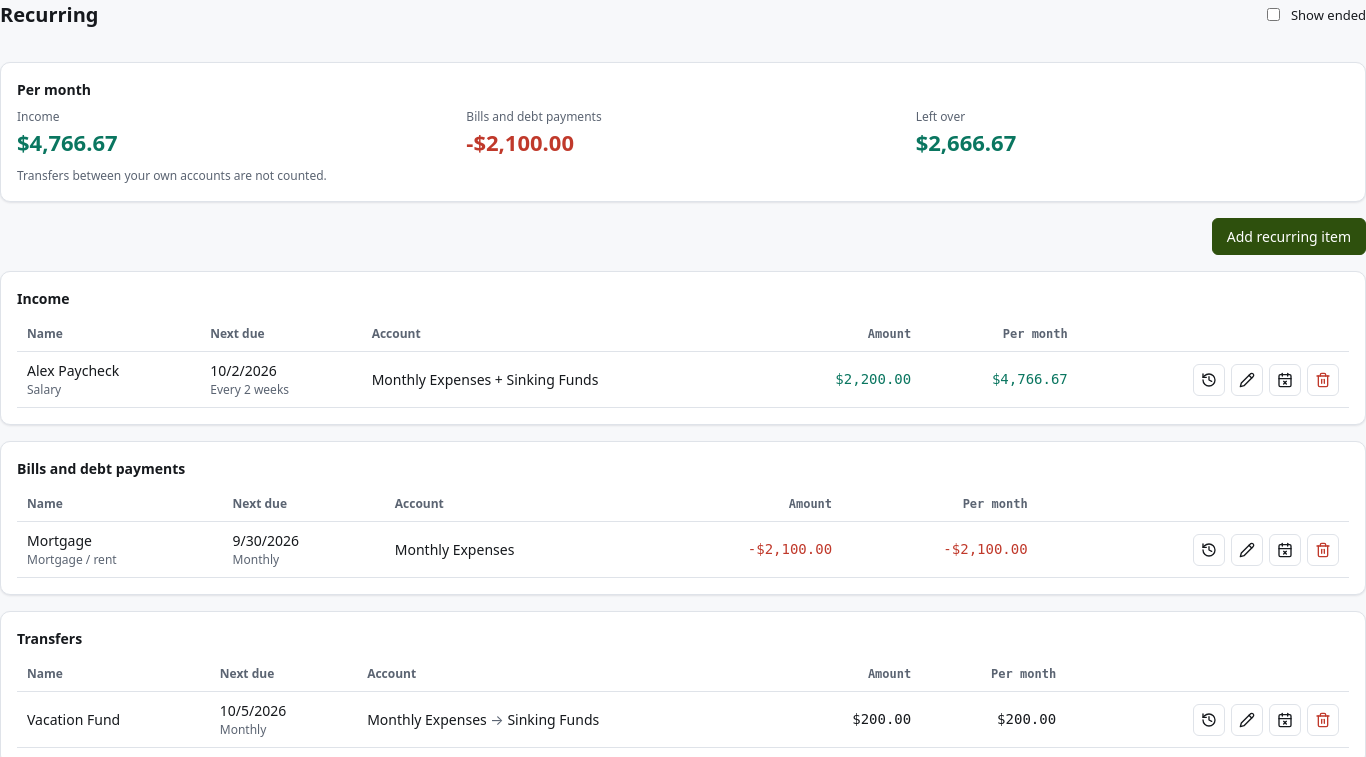
Test: the form › offers only categories of the matching kind, and none for a transfer
Click the button "Add recurring item".
click(1289, 236)  # box x1=1212 y1=218 x2=1365 y2=255
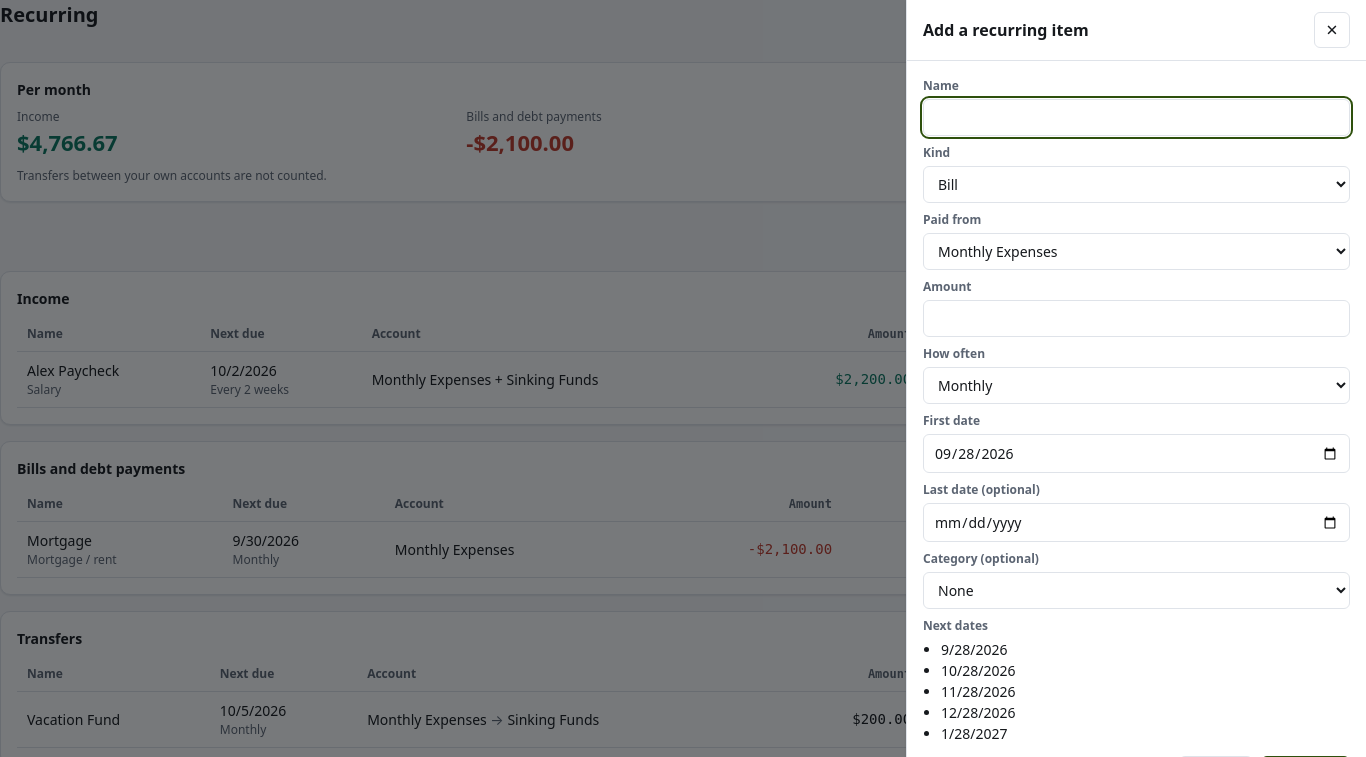
Select "Income" in the dropdown labelled "Kind" at [1136, 184], box x1=923 y1=166 x2=1350 y2=203
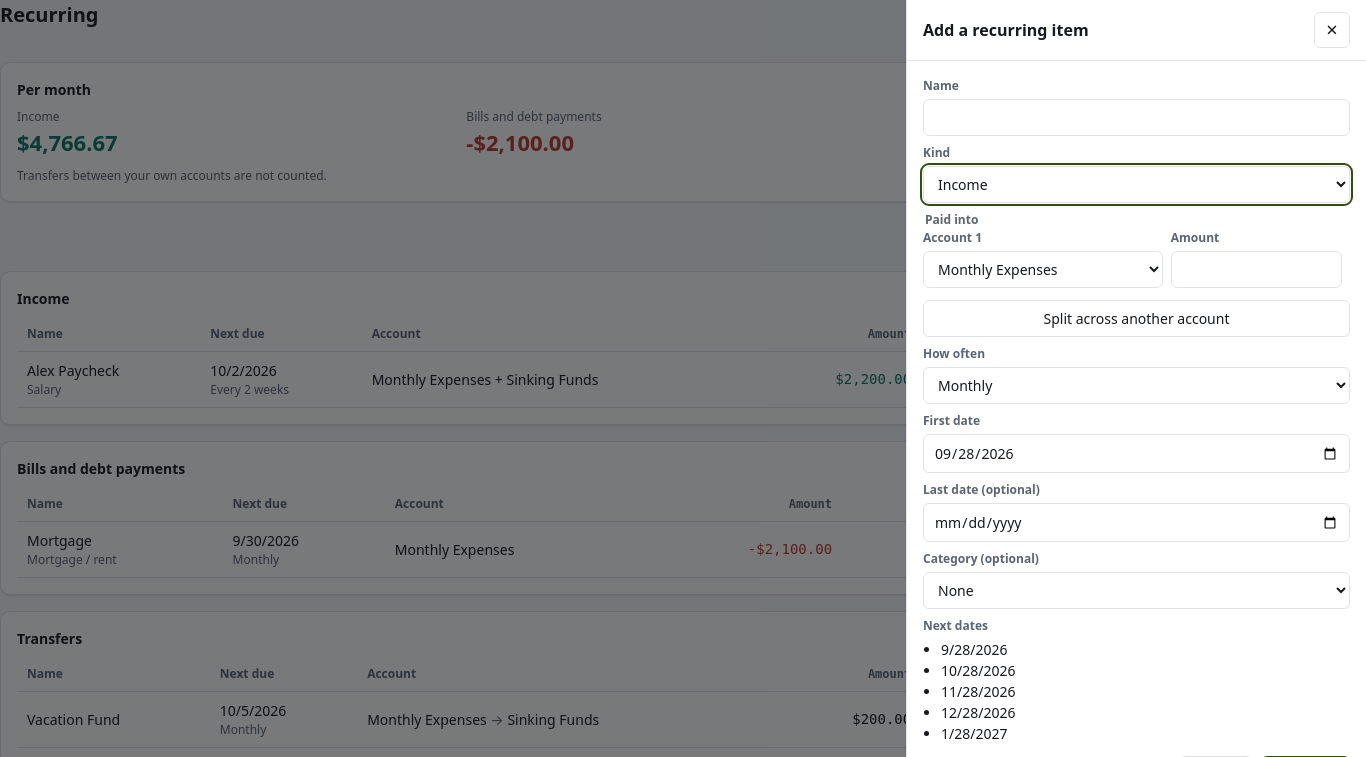
Select "Transfer" in the dropdown labelled "Kind" at [1136, 184], box x1=923 y1=166 x2=1350 y2=203
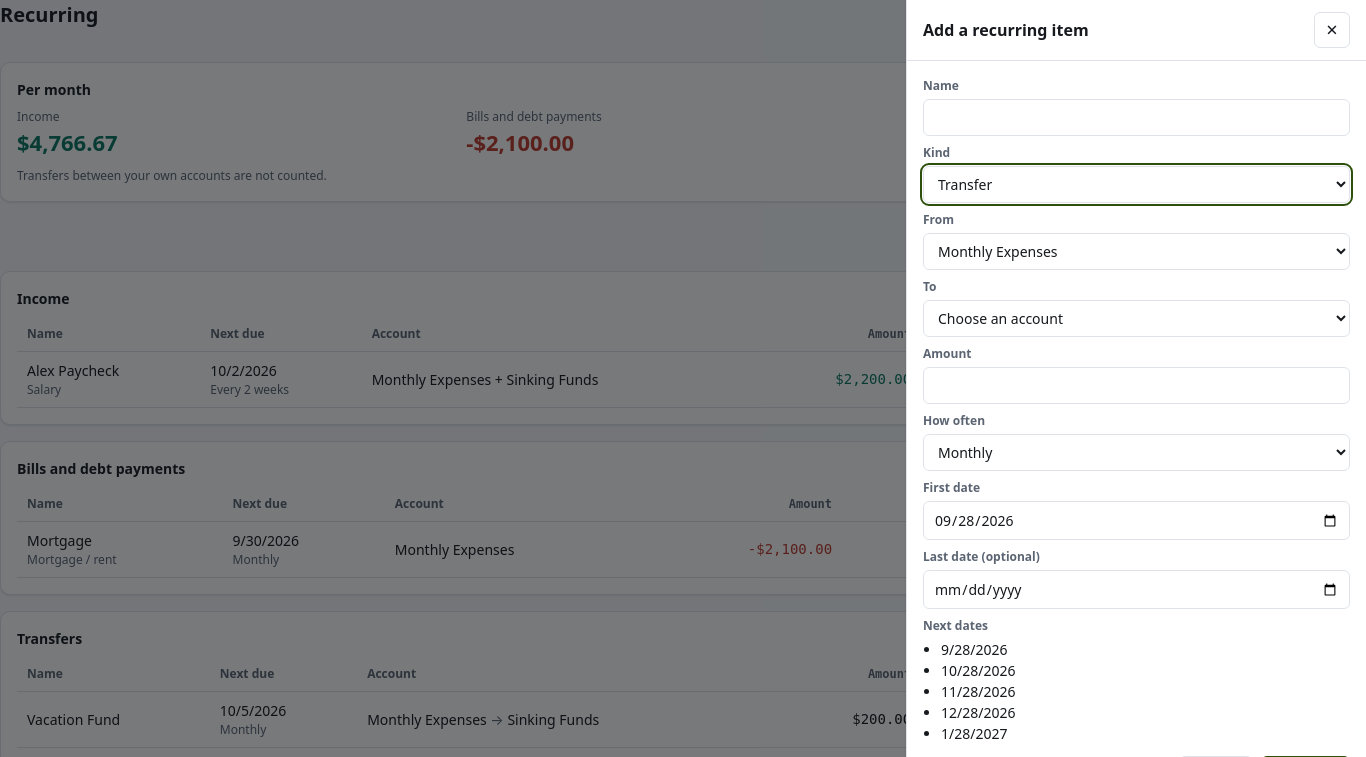
Result: the label labelled "Category (optional)" is gone
